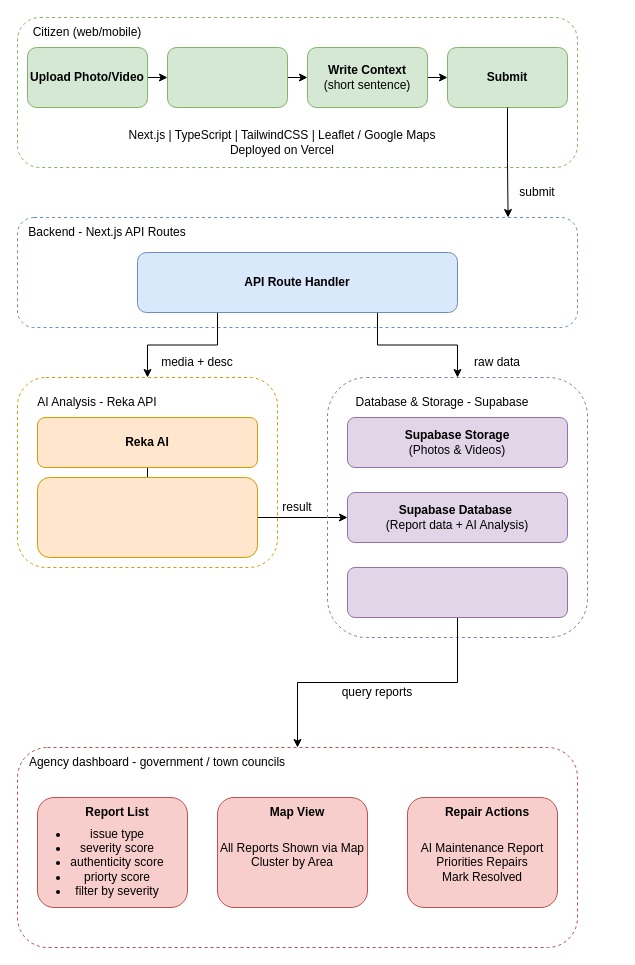
Some shapes in this 635 by 965 pixel diagram are drawn without their labels. Each missing label, with the centre of its shape:
"Issue Category Authencity Score Severity Level Risk Summary Recommended Action" belongs at (x=147, y=517).
"Pin Location on Map" belongs at (x=227, y=77).
"User & Agency Access Control" belongs at (x=457, y=592).
